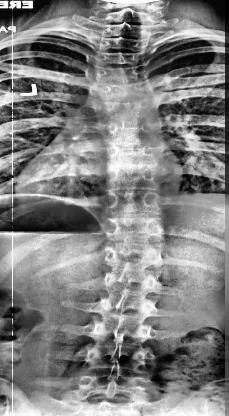Vertebrae: (82, 372, 150, 402), (85, 344, 151, 374), (104, 270, 164, 300), (108, 214, 164, 246), (104, 245, 168, 272), (91, 320, 153, 347), (94, 296, 156, 323), (106, 192, 164, 216), (109, 162, 158, 190), (104, 120, 160, 144), (97, 82, 153, 104), (90, 63, 144, 85), (102, 100, 154, 121), (108, 142, 156, 162), (103, 34, 150, 54), (95, 50, 141, 68), (104, 24, 148, 38)
